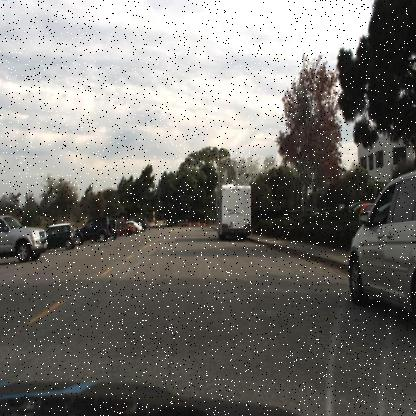car: (348, 169, 416, 320), (0, 212, 47, 263), (72, 216, 114, 247), (43, 218, 76, 254)
truck: (214, 182, 256, 242)
